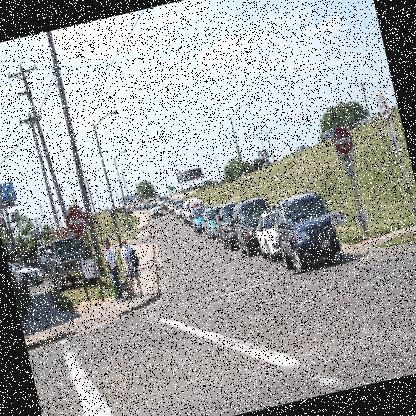Car: (98, 162, 342, 314), (7, 255, 44, 291), (11, 255, 46, 284), (7, 263, 22, 287)
